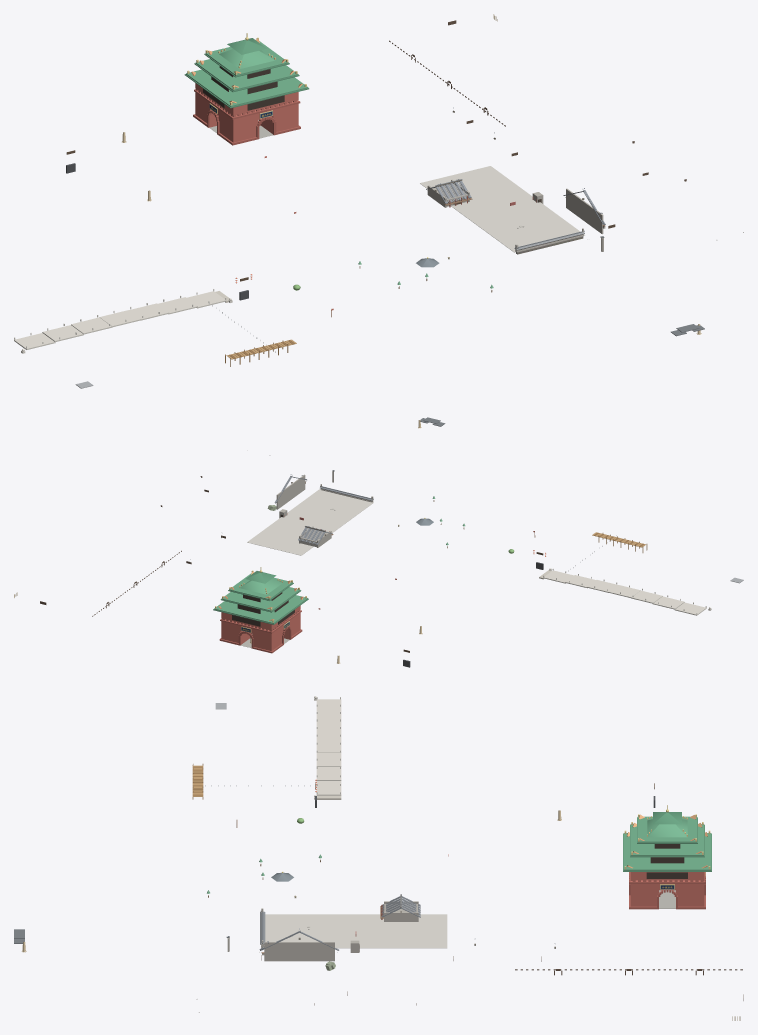
File: tile_1500_-500.glb
3 renders of one model, top to bottom at view 1: azimuth 30°, elevation 25°; view 2: azimuth 150°, elevation 25°; view 3: azimuth 270°, elevation 25°, orthographic. The views are drawn at different scales.
Parts seen in each view (by area): view 1: tile; view 2: tile; view 3: tile.
Boxes of the visible parts, x1,y1,x2,y2 form: tile: (14,14,743,388); tile: (14,417,743,667); tile: (14,696,743,1020).
Bounding box in the file's own units: 505 × 65 × 474.
Materials: 69 (5 with a texture image).
